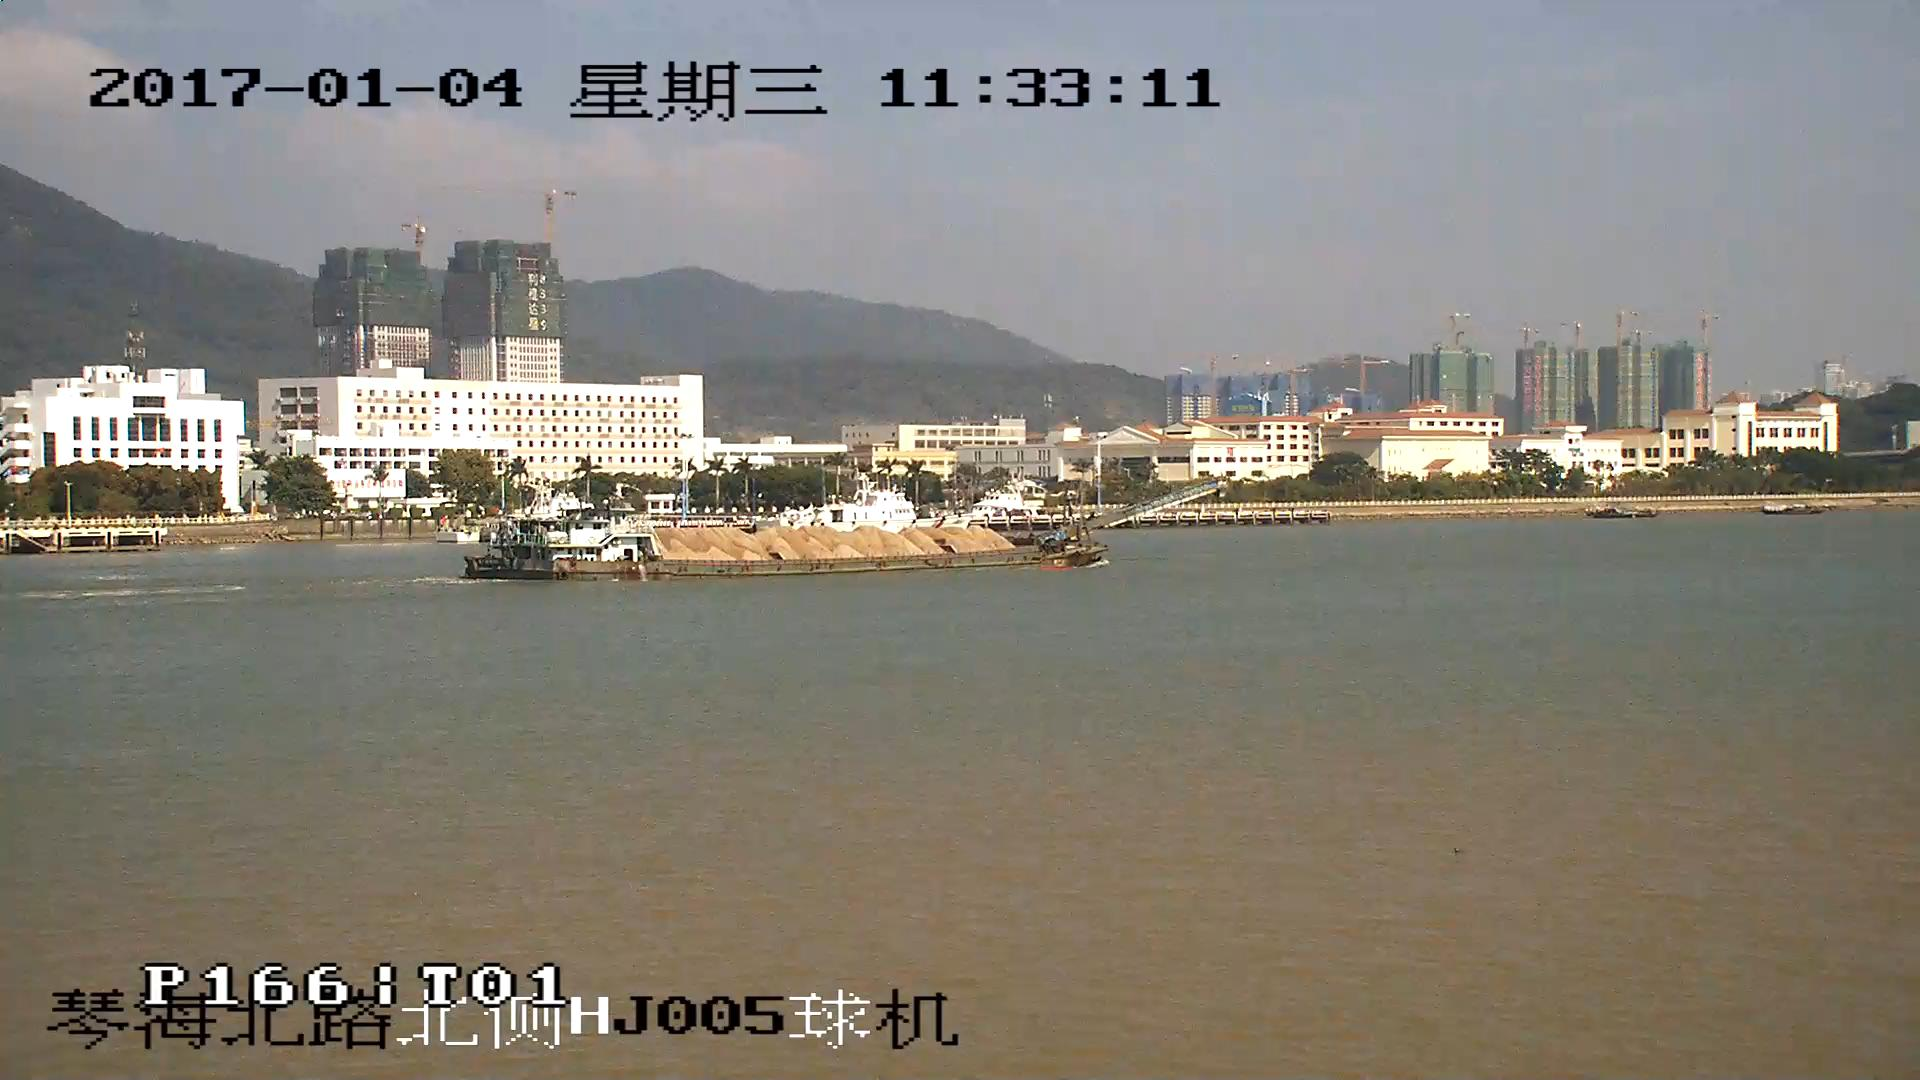ore carrier: (468, 480, 1214, 581)
